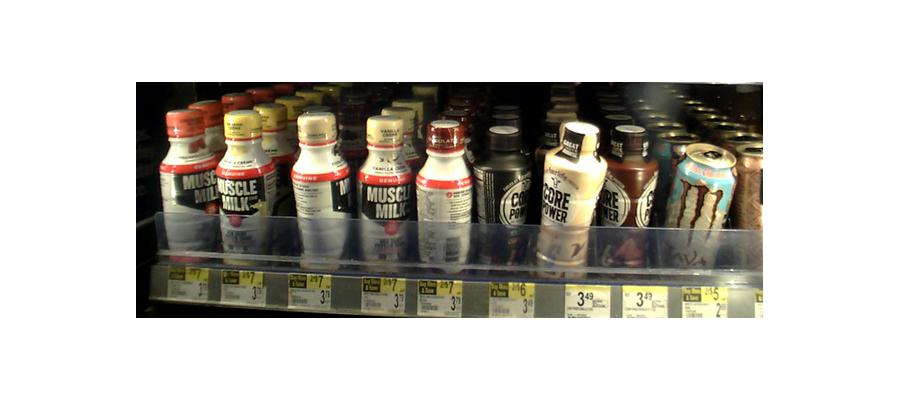bottle: (536, 125, 606, 272), (661, 141, 733, 276), (291, 112, 351, 269), (159, 104, 217, 260), (357, 115, 415, 268), (219, 112, 280, 257), (474, 129, 532, 269), (418, 120, 471, 272), (603, 131, 661, 269)
